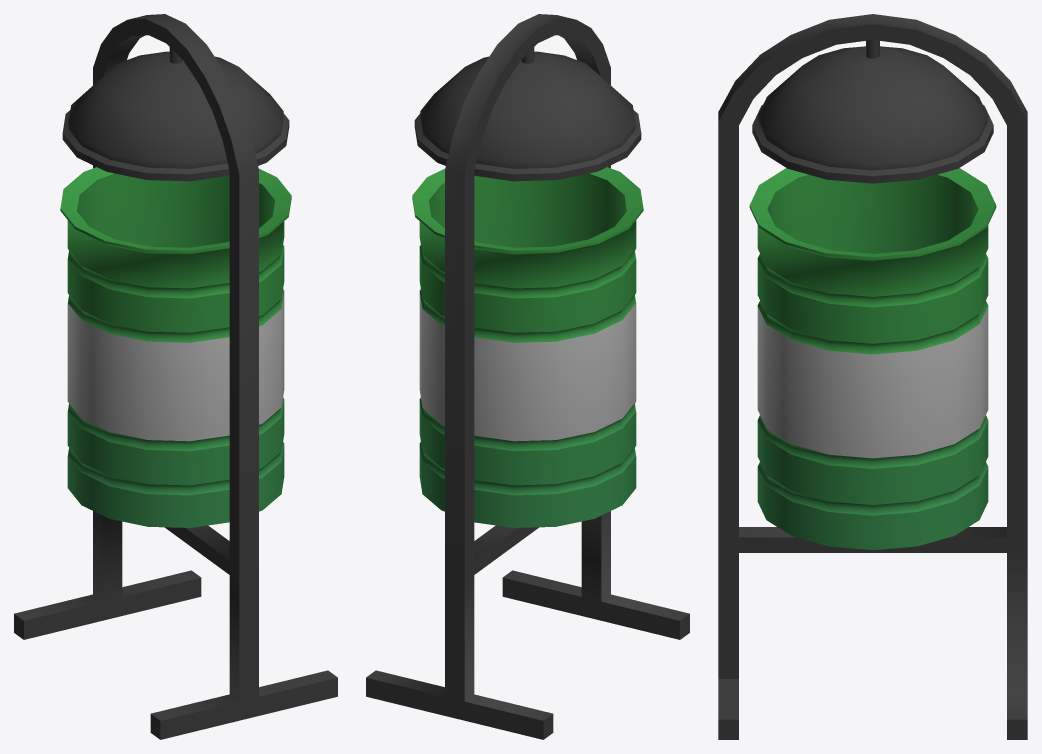
The model's file is bin .fbx.
3 views of the same model, side by side, from view 1: azimuth 30°, elevation 25°; view 2: azimuth 150°, elevation 25°; view 3: azimuth 270°, elevation 25° (orthographic). The views are drawn at different scales.
Parts seen in each view (by area): view 1: Circle.004; view 2: Circle.004; view 3: Circle.004.
Part boxes in pixels (x1,y1,x2,y2): Circle.004: [14, 14, 337, 739]; Circle.004: [366, 14, 689, 739]; Circle.004: [718, 14, 1027, 739].
Size of the model in its own units: 41.95 by 127 by 52.68.
